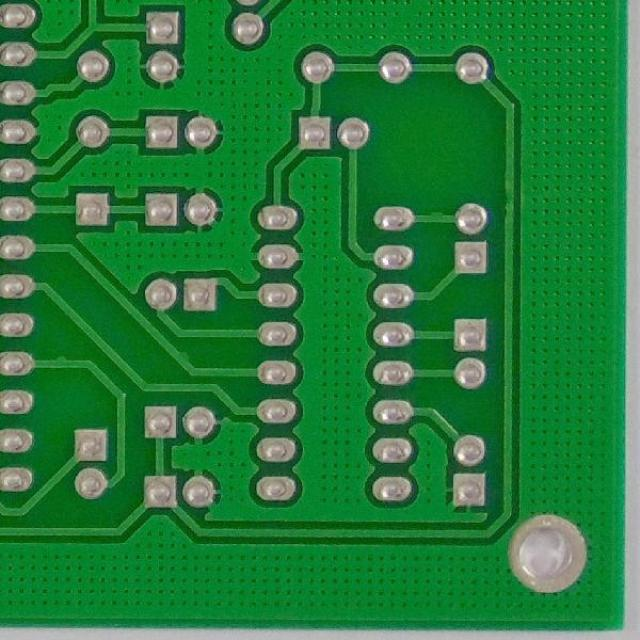spur: (169, 342, 195, 372), (424, 205, 450, 227), (50, 352, 73, 372)
